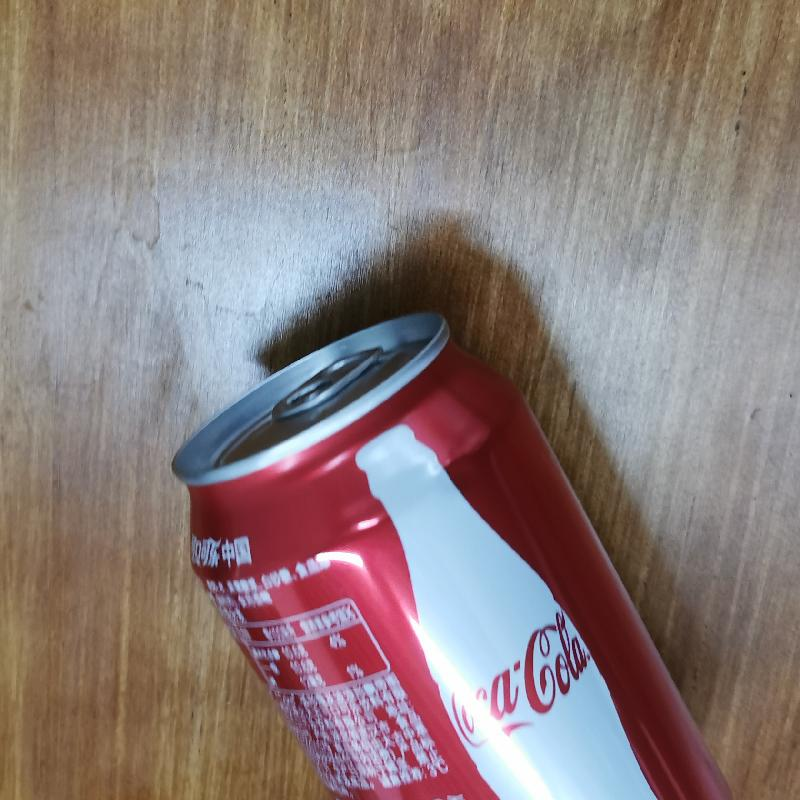cans: (159, 308, 760, 800)
